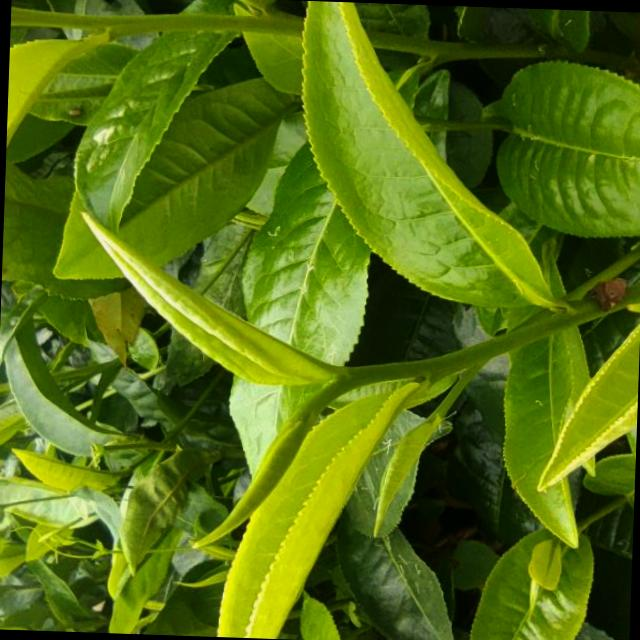Stem: (425, 359, 447, 375)
